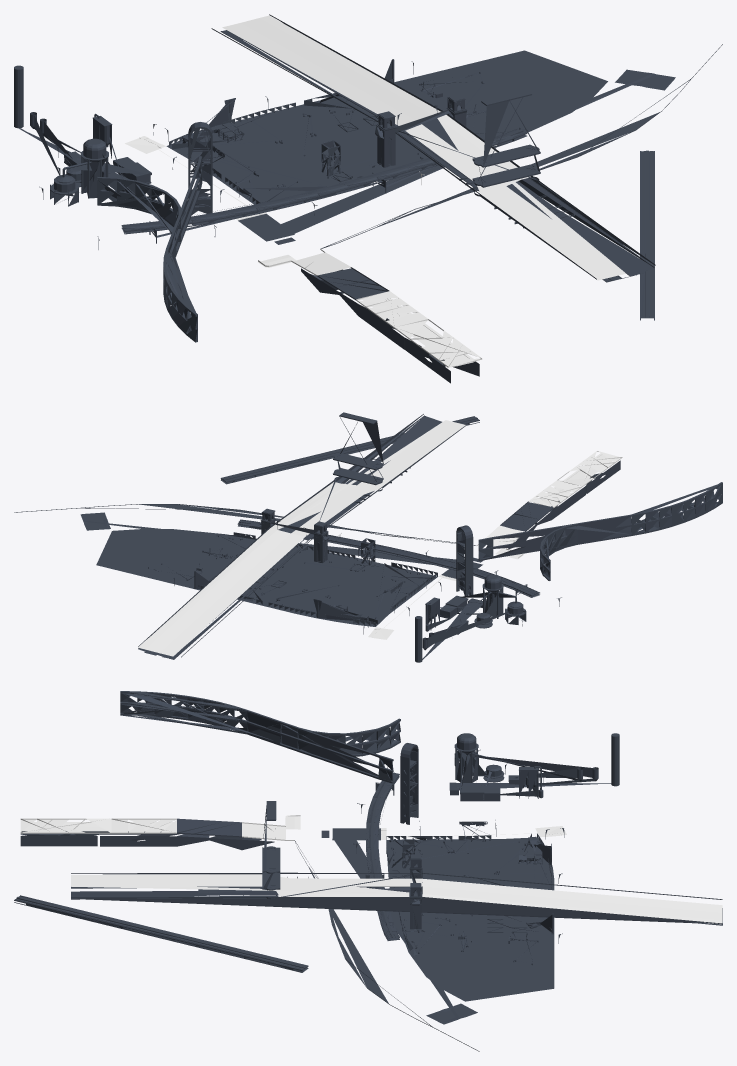
File: street_island2_06.glb
3 views of the same model, one above another, from view 1: azimuth 30°, elevation 25°; view 2: azimuth 150°, elevation 25°; view 3: azimuth 270°, elevation 25° (orthographic). The views are drawn at different scales.
Visible parts, largest first — view 1: seg_379, seg_383, seg_957, seg_843, seg_433, seg_387, seg_849, seg_1019, seg_931, seg_851, seg_1013, seg_750 (+14 smaller); view 2: seg_379, seg_383, seg_957, seg_843, seg_433, seg_849, seg_1019, seg_387, seg_1013, seg_968, seg_931, seg_750 (+13 smaller); view 3: seg_379, seg_383, seg_957, seg_931, seg_843, seg_433, seg_1009, seg_1019, seg_387, seg_750, seg_800, seg_968 (+11 smaller).
Boxes of the visible parts, left/top/right/bottom form: seg_379: left=166, top=50, right=607, bottom=204; seg_383: left=222, top=15, right=625, bottom=280; seg_957: left=97, top=156, right=202, bottom=342; seg_843: left=14, top=65, right=151, bottom=206; seg_433: left=220, top=30, right=654, bottom=282; seg_387: left=238, top=69, right=675, bottom=241; seg_849: left=472, top=90, right=540, bottom=187; seg_1019: left=356, top=291, right=482, bottom=367; seg_931: left=211, top=14, right=655, bottom=279; seg_851: left=375, top=94, right=468, bottom=167; seg_1013: left=321, top=44, right=722, bottom=248; seg_750: left=640, top=150, right=654, bottom=318; seg_379: left=96, top=529, right=437, bottom=626; seg_383: left=138, top=420, right=465, bottom=656; seg_957: left=478, top=482, right=722, bottom=580; seg_843: left=415, top=574, right=526, bottom=662; seg_433: left=138, top=415, right=441, bottom=659; seg_849: left=333, top=412, right=383, bottom=485; seg_1019: left=528, top=451, right=622, bottom=507; seg_387: left=80, top=512, right=482, bottom=578; seg_1013: left=14, top=504, right=475, bottom=545; seg_968: left=456, top=525, right=473, bottom=595; seg_931: left=138, top=414, right=467, bottom=657; seg_750: left=220, top=416, right=479, bottom=482; seg_379: left=386, top=837, right=554, bottom=1001; seg_383: left=71, top=874, right=722, bottom=924; seg_957: left=120, top=691, right=400, bottom=783; seg_931: left=71, top=872, right=722, bottom=924; seg_843: left=449, top=733, right=619, bottom=801; seg_433: left=71, top=876, right=722, bottom=925; seg_1009: left=20, top=831, right=176, bottom=846; seg_1019: left=20, top=818, right=176, bottom=833; seg_387: left=332, top=828, right=477, bottom=1024; seg_750: left=14, top=895, right=308, bottom=970; seg_800: left=14, top=896, right=308, bottom=972; seg_968: left=400, top=743, right=418, bottom=824.
Bounding box in the file's own units: 516 × 88.35 × 506.
